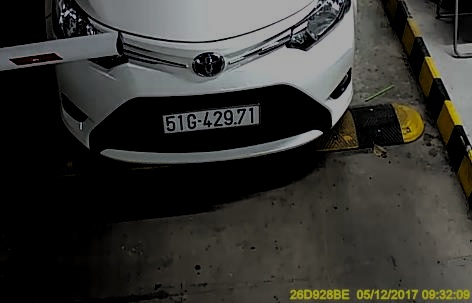plate: (160, 99, 264, 132)
